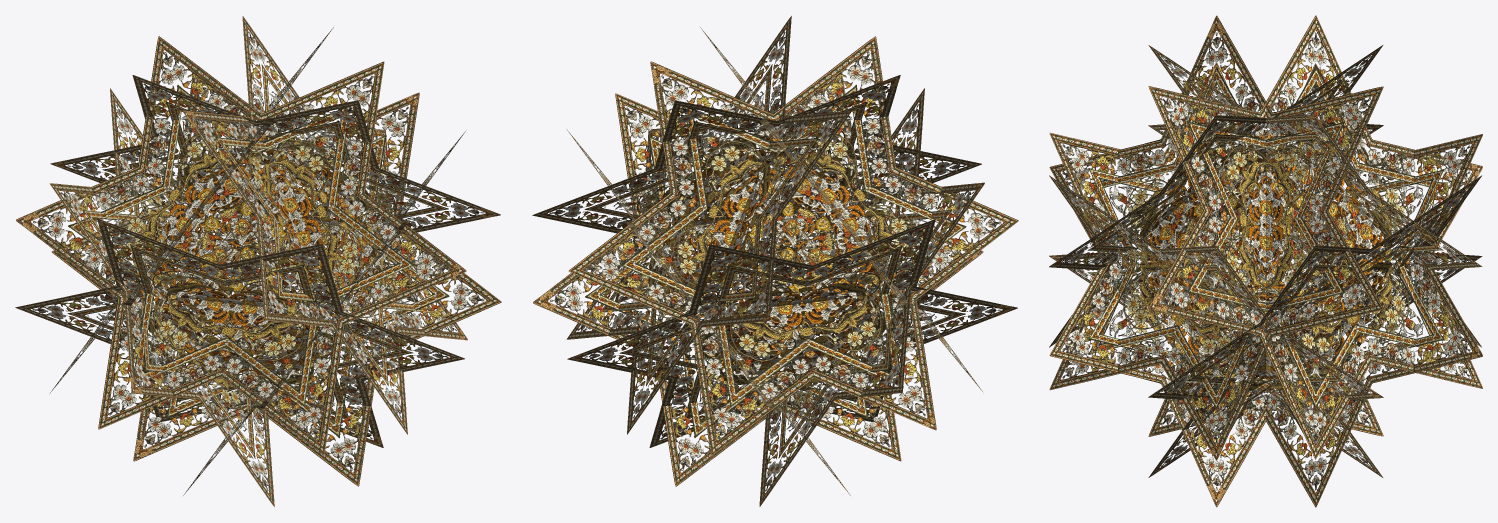
Rendered from GreatTruncatedCuboctahedron12.gltf.
3 views of the same model, side by side, from view 1: azimuth 30°, elevation 25°; view 2: azimuth 150°, elevation 25°; view 3: azimuth 270°, elevation 25° (orthographic).
Parts seen in each view (by area): view 1: GreatTruncatedCuboctahedron; view 2: GreatTruncatedCuboctahedron; view 3: GreatTruncatedCuboctahedron.
Part boxes in pixels (x1,y1,x2,y2): GreatTruncatedCuboctahedron: (15,16,501,506); GreatTruncatedCuboctahedron: (532,16,1018,506); GreatTruncatedCuboctahedron: (1049,15,1482,507).
Bounding box in the file's own units: 1.83 × 1.83 × 1.83.
1 material, 1 textured.
